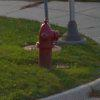Hydrant: (29, 10, 60, 78)
